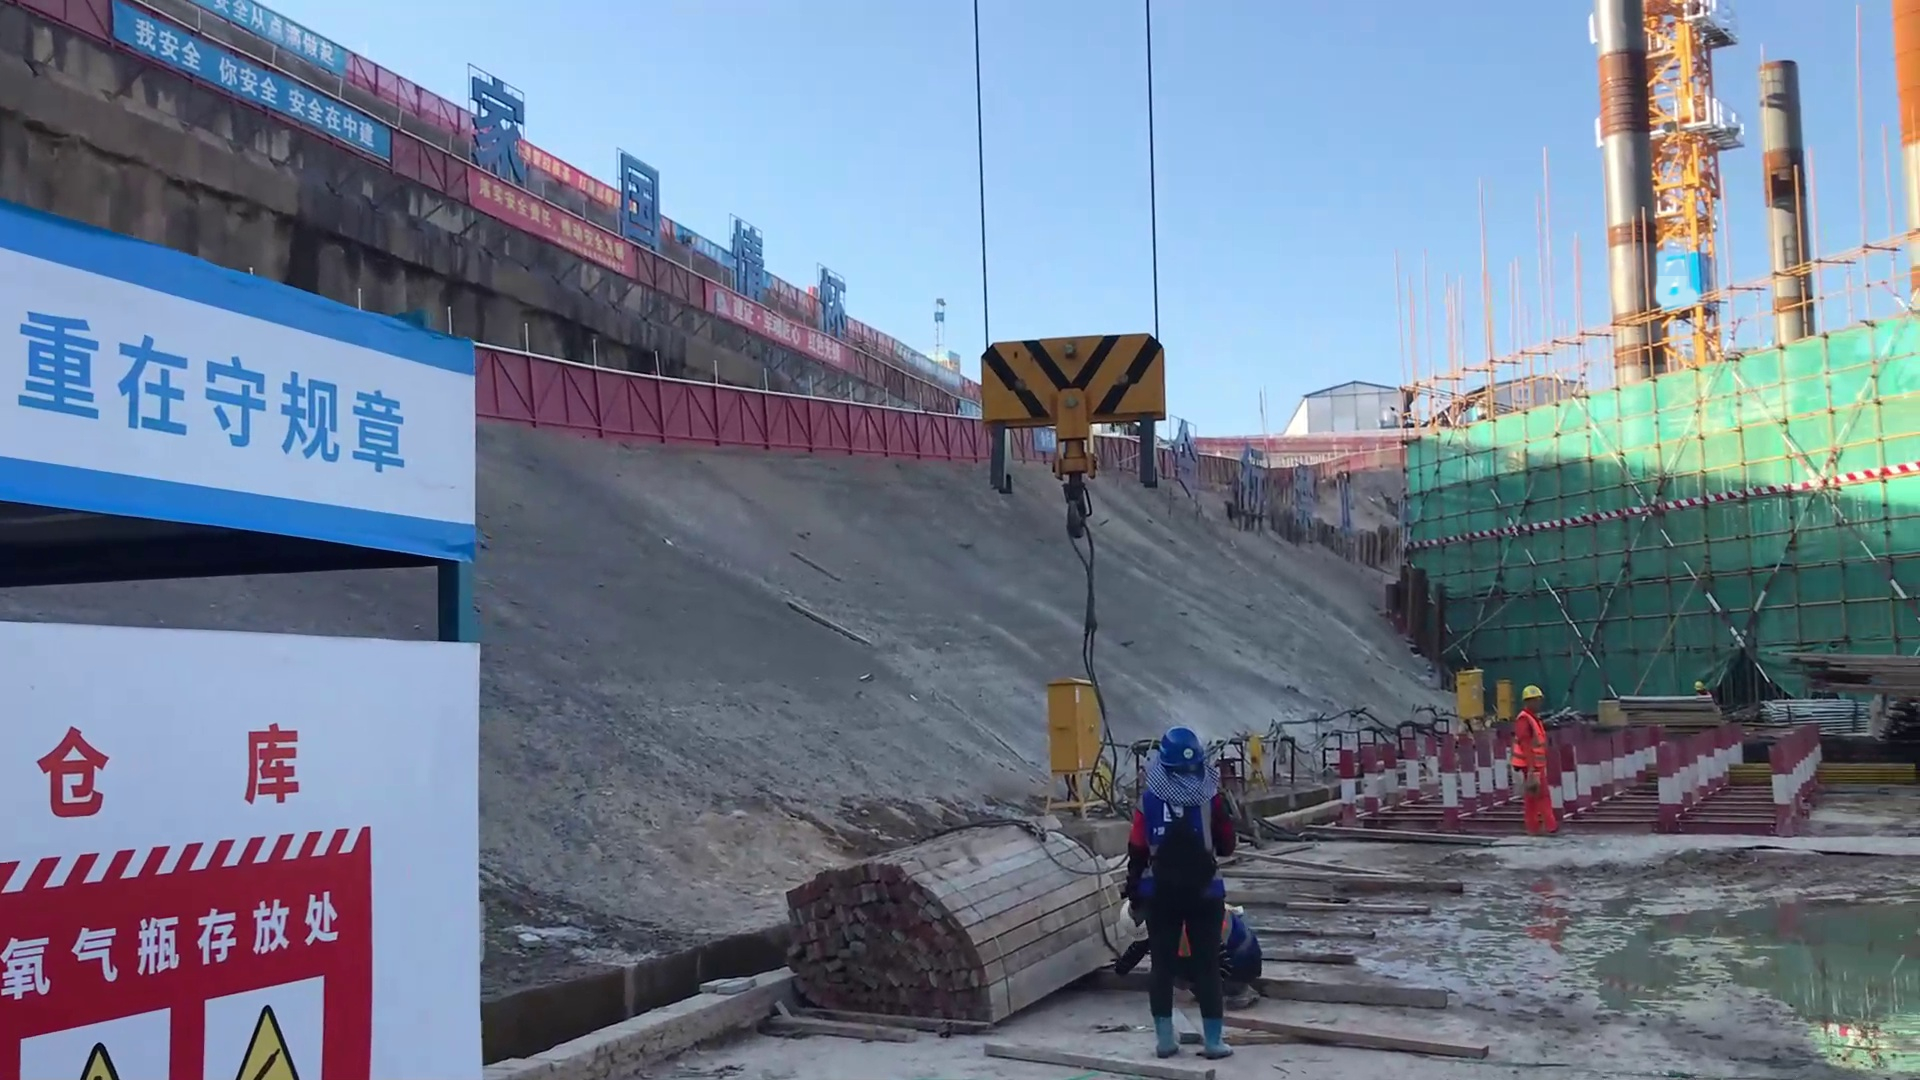ebox: (1011, 650, 1125, 796), (1447, 663, 1485, 718)
fence: (474, 365, 969, 471)
helmet: (1144, 719, 1221, 798), (1515, 672, 1548, 708)
hook: (978, 320, 1162, 501)
person: (1120, 727, 1238, 1058), (1505, 683, 1567, 835)
slogan: (1, 303, 414, 523), (17, 856, 360, 1080), (106, 7, 393, 183), (447, 160, 677, 309)
vest: (1515, 717, 1549, 773)
wood: (748, 813, 1117, 1038)
